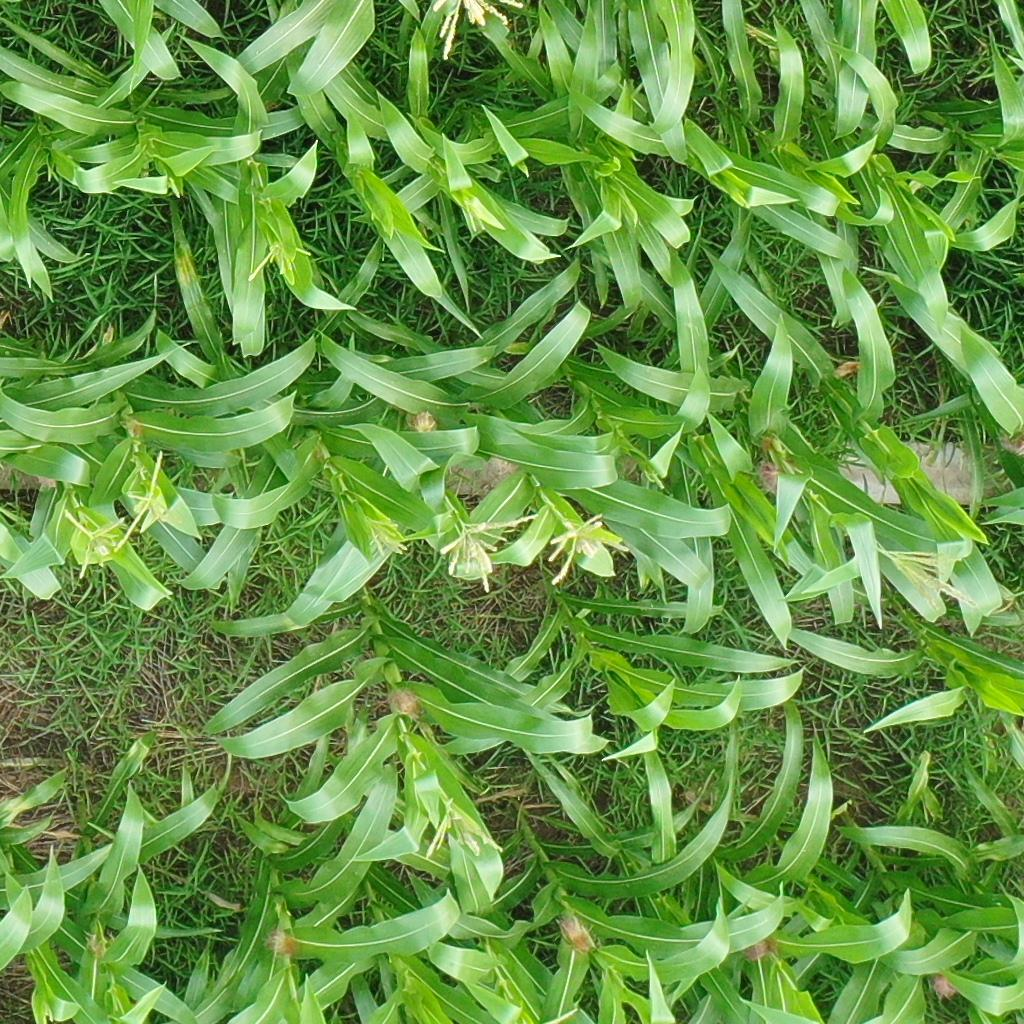Tassel: (871, 537, 981, 618), (437, 508, 539, 592), (540, 492, 630, 587), (114, 446, 183, 554), (430, 1, 527, 62), (423, 797, 507, 860), (60, 505, 126, 581), (248, 242, 312, 282), (363, 515, 410, 559), (459, 196, 491, 235), (643, 467, 667, 490), (163, 173, 181, 196), (767, 435, 786, 455), (42, 1003, 54, 1024)
